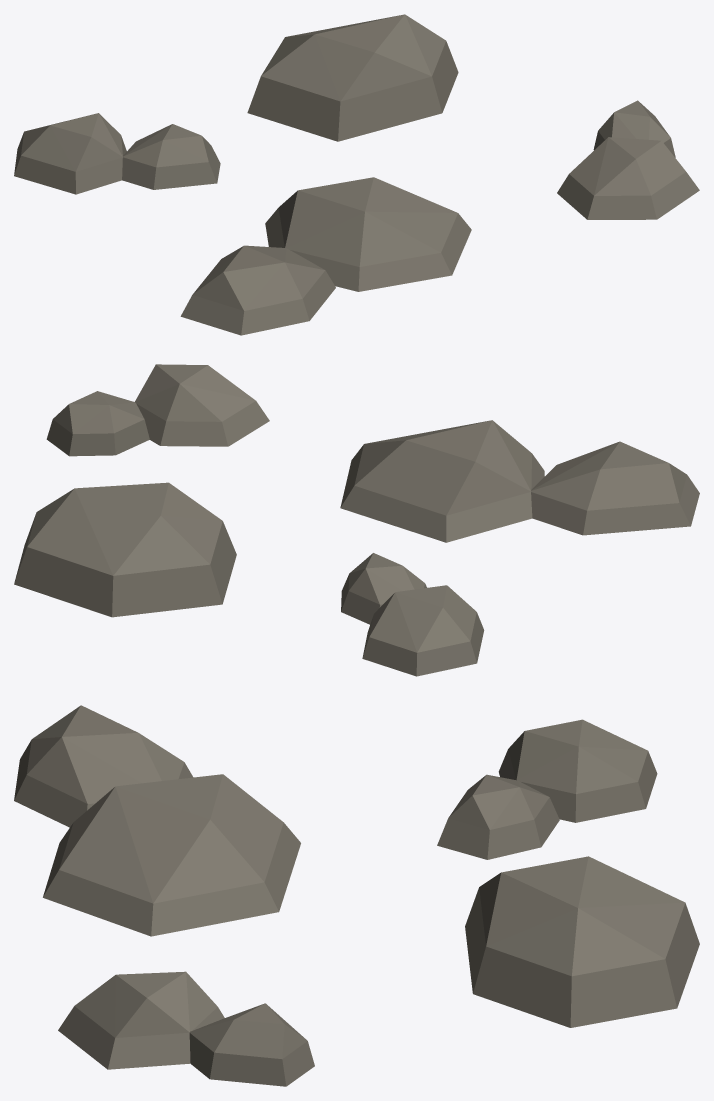
Rendered from pebbles1.glb.
The picture shows the model from 3 angles, top to bottom: view 1: azimuth 30°, elevation 25°; view 2: azimuth 150°, elevation 25°; view 3: azimuth 270°, elevation 25°; orthographic projection. The views are drawn at different scales.
Parts seen in each view (by area): view 1: pebbles1.caves.light; view 2: pebbles1.caves.light; view 3: pebbles1.caves.light.
Part boxes in pixels (x1=…): pebbles1.caves.light: x1=14, y1=14, x2=699, y2=335; pebbles1.caves.light: x1=14, y1=364, x2=699, y2=676; pebbles1.caves.light: x1=14, y1=705, x2=699, y2=1086.
Size of the model in its own units: 1.96 by 0.241 by 1.65.
Materials: 1 (1 with a texture image).
